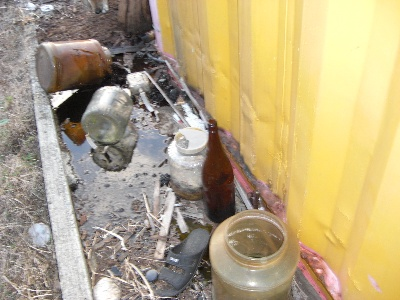bottle: (209, 209, 299, 300), (36, 39, 113, 92), (202, 120, 235, 223), (80, 84, 133, 144), (167, 126, 207, 199)
